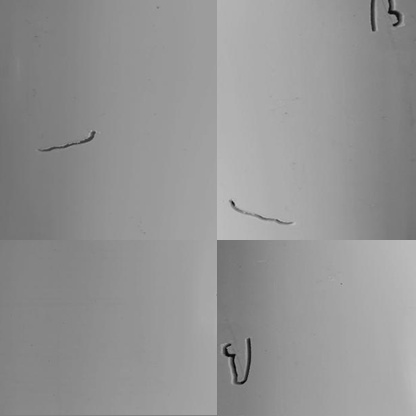fengxi: (220, 336, 262, 390), (226, 196, 288, 228), (37, 128, 101, 155), (386, 1, 407, 31), (366, 2, 376, 33)
